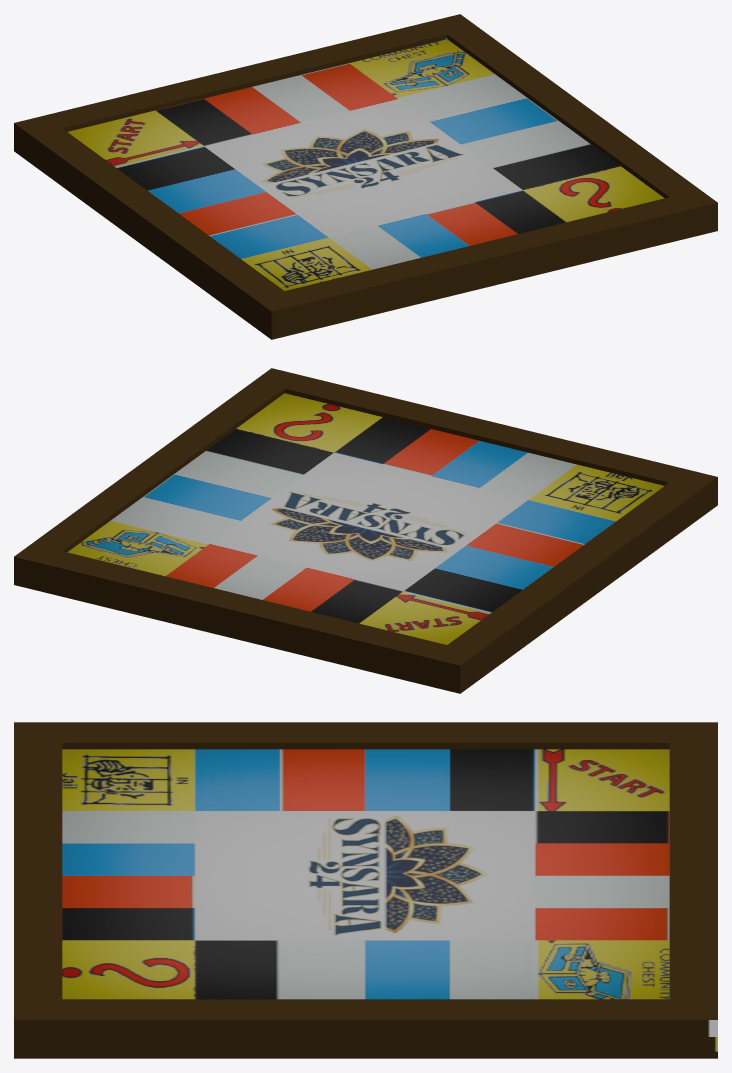
File: board.fbx
3 views of the same model, one above another, from view 1: azimuth 30°, elevation 25°; view 2: azimuth 150°, elevation 25°; view 3: azimuth 270°, elevation 25° (orthographic). The views are drawn at different scales.
Visible parts, largest first — view 1: Plane, Cube; view 2: Plane, Cube; view 3: Plane, Cube.
Part boxes in pixels (x1,y1,x2,y2): Plane: (68,39,664,290); Cube: (14,14,717,339); Plane: (67,393,663,644); Cube: (14,368,717,693); Plane: (62,749,669,999); Cube: (14,722,717,1058).
Bounding box in the file's own units: 702 × 42.52 × 702.
2 materials, 2 textured.
